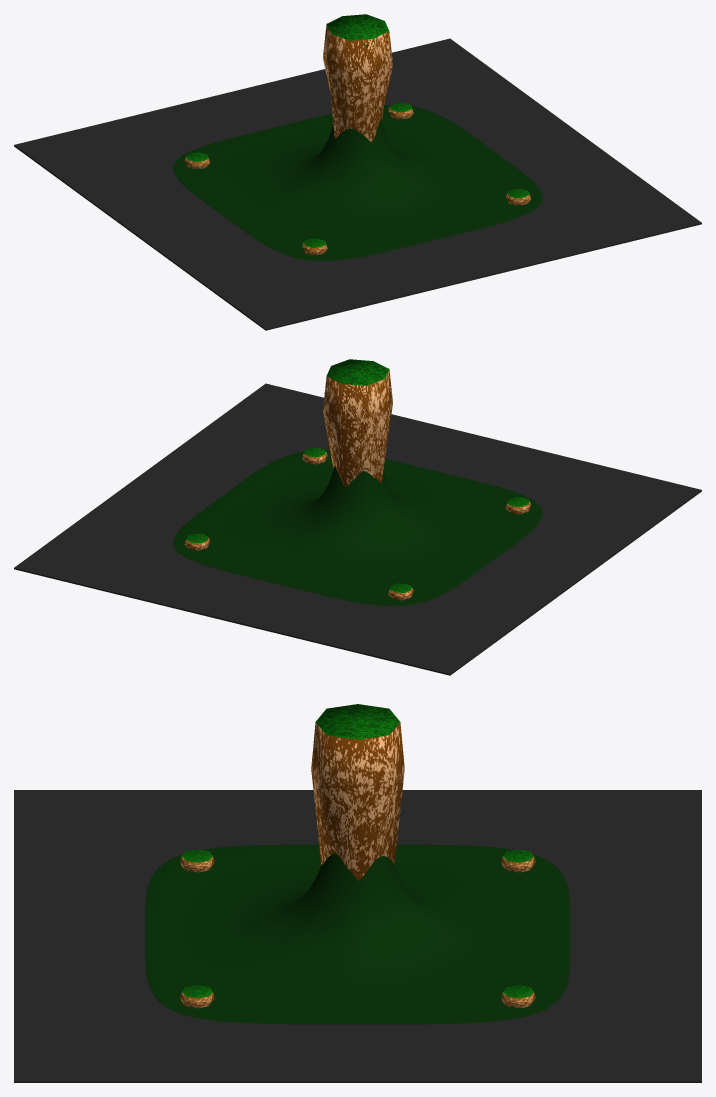
File: Level3.fbx
3 renders of one model, top to bottom at view 1: azimuth 30°, elevation 25°; view 2: azimuth 150°, elevation 25°; view 3: azimuth 270°, elevation 25°, orthographic. The views are drawn at different scales.
Visible parts, largest first — view 1: pCube3, pCube1, GroundPlatform:pCube1; view 2: pCube3, pCube1, GroundPlatform:pCube1; view 3: pCube3, pCube1 (×2), GroundPlatform:pCube1, pCube6, pCube4, pCube5.
Boxes of the visible parts, x1,y1,x2,y2 form: pCube3: (14, 38, 701, 330); pCube1: (173, 105, 542, 260); GroundPlatform:pCube1: (323, 14, 392, 142); pCube3: (14, 383, 701, 675); pCube1: (173, 450, 542, 605); GroundPlatform:pCube1: (323, 359, 392, 487); pCube3: (14, 790, 701, 1082); pCube1 (×2): (145, 844, 570, 1024); GroundPlatform:pCube1: (311, 704, 404, 880); pCube6: (501, 985, 535, 1008); pCube4: (180, 849, 214, 872); pCube5: (501, 849, 535, 872).
Bounding box in the file's own units: 300 × 111 × 300.
